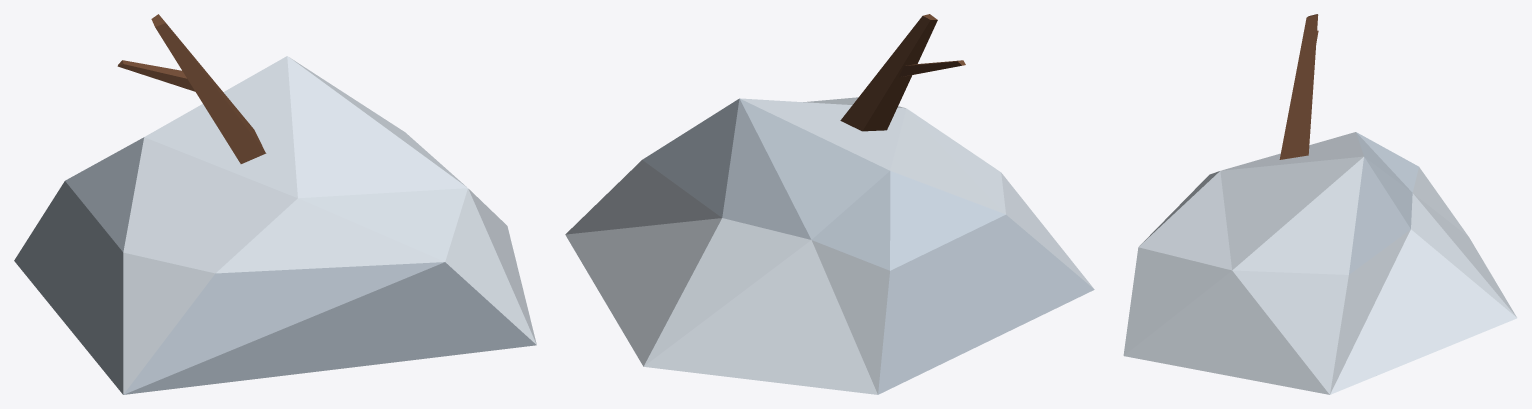
Rendered from Icemound3_Alt1.fbx.
3 views of the same model, side by side, from view 1: azimuth 30°, elevation 25°; view 2: azimuth 150°, elevation 25°; view 3: azimuth 270°, elevation 25° (orthographic). The views are drawn at different scales.
Parts seen in each view (by area): view 1: Icemound3_Alt1; view 2: Icemound3_Alt1; view 3: Icemound3_Alt1.
Boxes of the visible parts, box(x1,y1,x2,y2) form: Icemound3_Alt1: box(14, 14, 536, 394); Icemound3_Alt1: box(565, 14, 1094, 394); Icemound3_Alt1: box(1123, 14, 1516, 394).
Bounding box in the file's own units: 0.8783 × 0.5532 × 0.8164.
